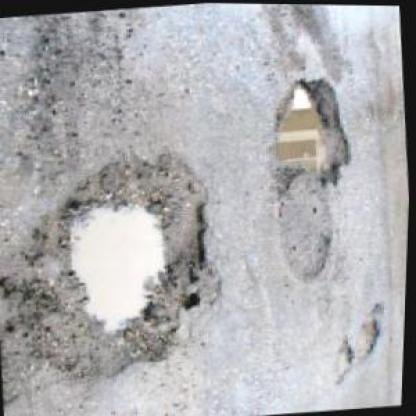pothole: (0, 146, 233, 390), (264, 70, 360, 200), (352, 301, 392, 355), (330, 336, 359, 384)
